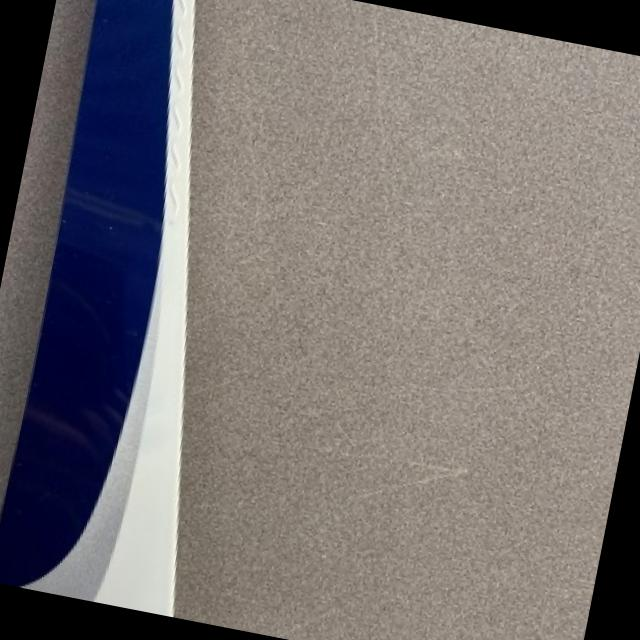healthy: (0, 0, 192, 615)
